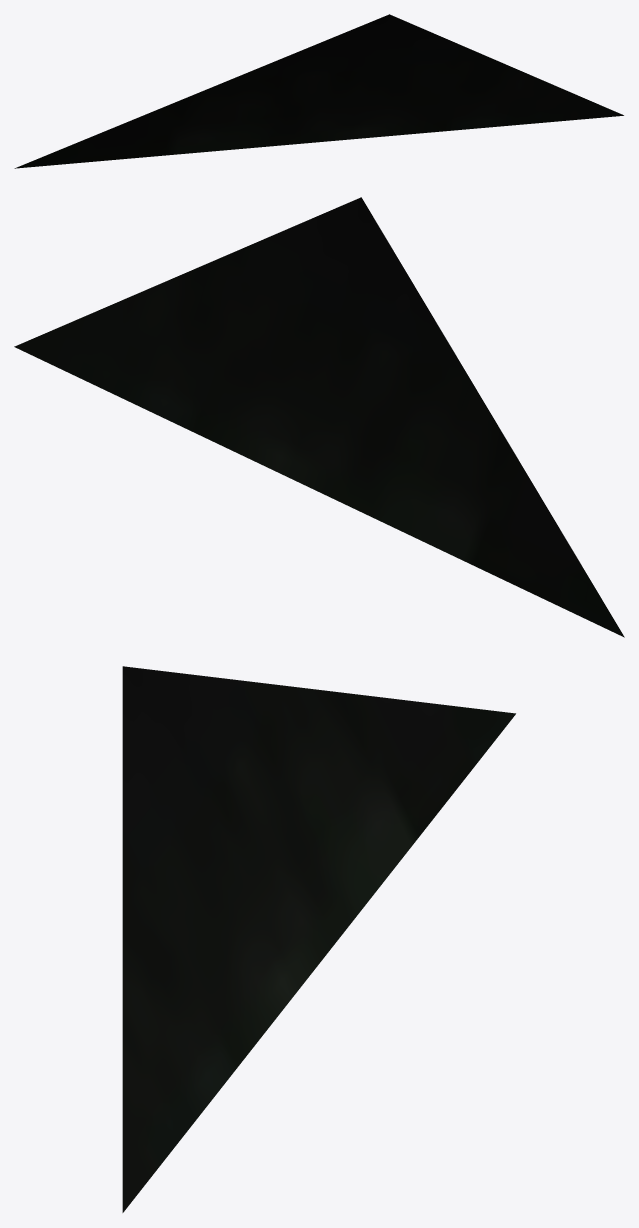
The picture shows the model from 3 angles, top to bottom: view 1: azimuth 30°, elevation 25°; view 2: azimuth 150°, elevation 25°; view 3: azimuth 270°, elevation 25°; orthographic projection. The views are drawn at different scales.
Size of the model in its own units: 0.5623 by 0.1665 by 0.1872.
1 material, 1 textured.
